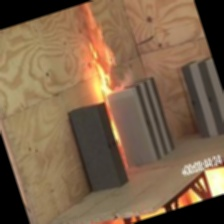fire: (79, 17, 130, 114)
